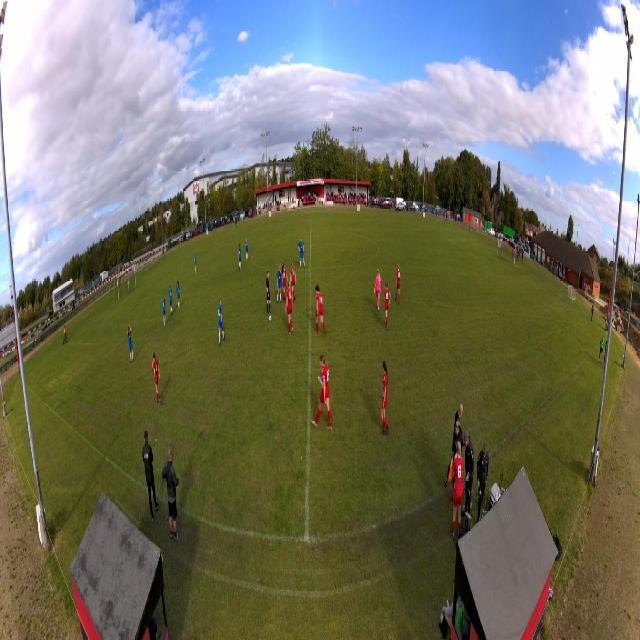ball: (268, 314, 272, 323)
player: (310, 352, 333, 436), (380, 359, 390, 438), (314, 283, 327, 339), (151, 352, 162, 408), (285, 279, 294, 338), (217, 296, 226, 348), (383, 281, 392, 332), (374, 267, 382, 314), (289, 260, 297, 304), (394, 262, 401, 308), (281, 262, 289, 302), (126, 324, 134, 363), (276, 263, 283, 307), (266, 269, 272, 316), (297, 236, 305, 271), (161, 293, 167, 329), (168, 284, 173, 319), (176, 279, 181, 313), (237, 243, 242, 271), (245, 236, 249, 264), (193, 253, 197, 275), (127, 276, 130, 294)
